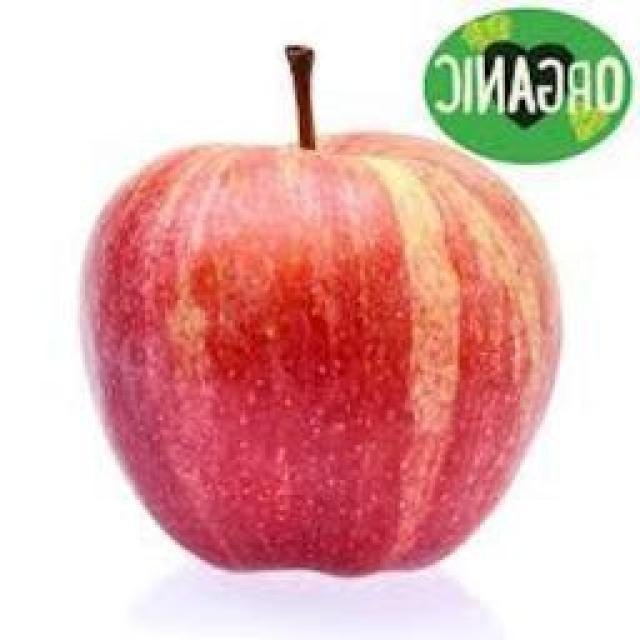Apple: (86, 135, 559, 574)
